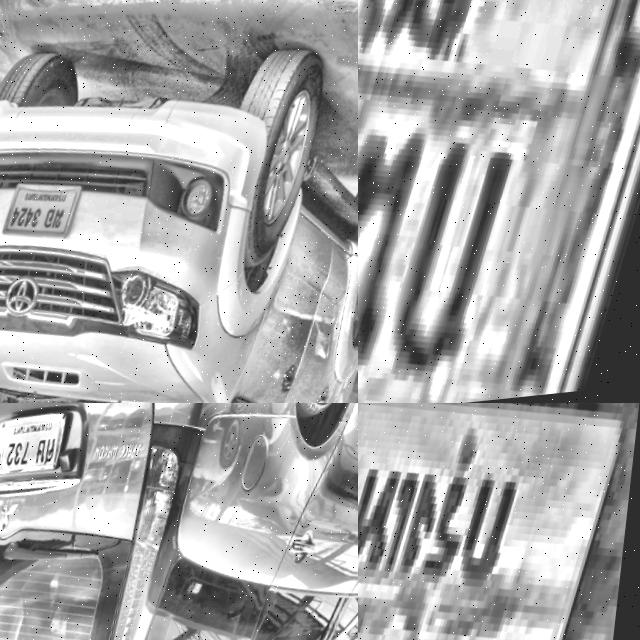license-plate: (358, 0, 640, 403), (358, 403, 640, 640), (0, 403, 82, 498), (3, 176, 89, 250)
